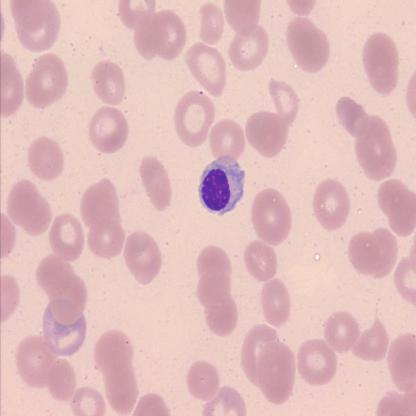NRC: (196, 154, 246, 219)
